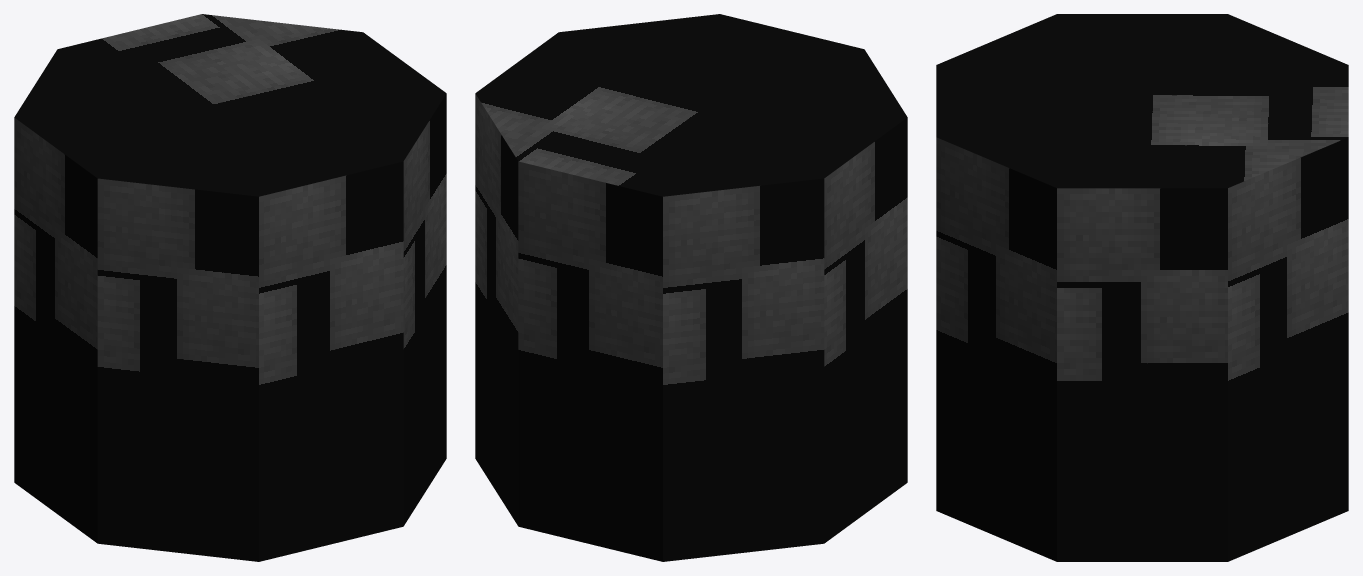
File: wheel_small.obj
The picture shows the model from 3 angles, left to right: view 1: azimuth 30°, elevation 25°; view 2: azimuth 150°, elevation 25°; view 3: azimuth 270°, elevation 25°; orthographic projection. The views are drawn at different scales.
Parts seen in each view (by area): view 1: cylinder; view 2: cylinder; view 3: cylinder.
Boxes of the visible parts, bbox=[...] form: cylinder: bbox=[14, 14, 446, 561]; cylinder: bbox=[475, 14, 907, 561]; cylinder: bbox=[936, 14, 1348, 561].
Bounding box in the file's own units: 1 × 1 × 1.
